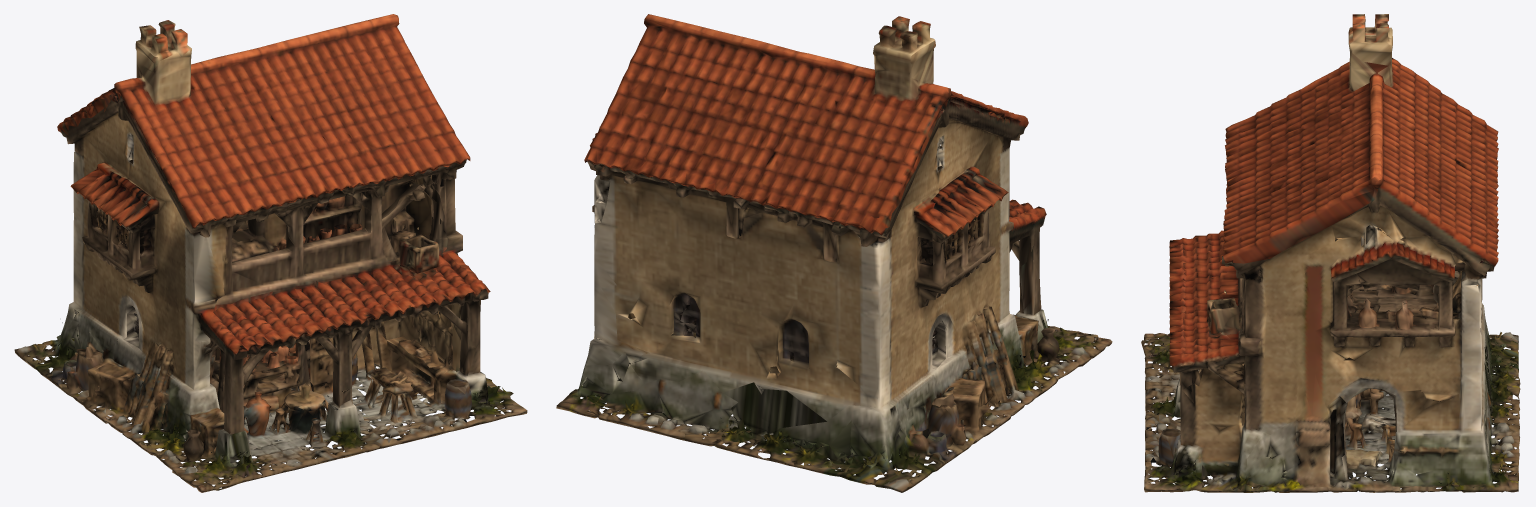
Rendered from SM_CasaDeArtesanos.fbx.
3 views of the same model, side by side, from view 1: azimuth 30°, elevation 25°; view 2: azimuth 150°, elevation 25°; view 3: azimuth 270°, elevation 25° (orthographic). The views are drawn at different scales.
Visible parts, largest first — view 1: SM_CasaDeArtesanos; view 2: SM_CasaDeArtesanos; view 3: SM_CasaDeArtesanos.
Boxes of the visible parts, x1,y1,x2,y2 form: SM_CasaDeArtesanos: (14,14,527,492); SM_CasaDeArtesanos: (556,14,1112,492); SM_CasaDeArtesanos: (1141,14,1520,492).
Bounding box in the file's own units: 99.07 × 102 × 100.
1 material, 1 textured.
